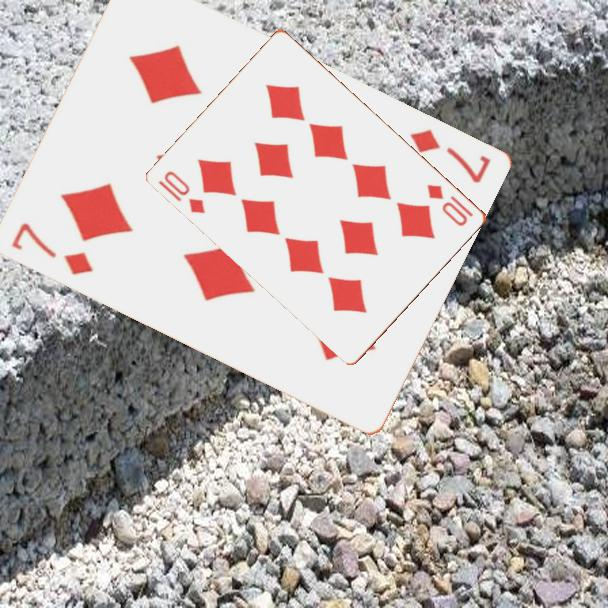d07: (405, 126, 493, 187), (7, 219, 95, 279)
d10: (155, 167, 209, 217), (424, 181, 477, 229)
